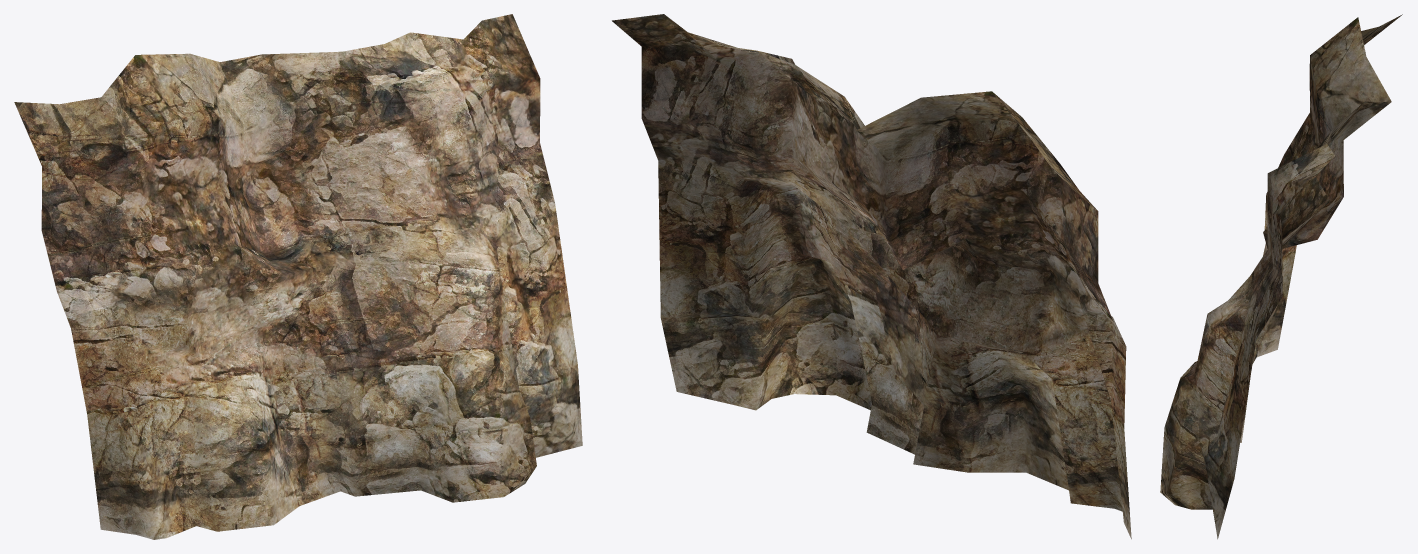
Rendered from ex_DungeonSet_Cliff_01B.fbx.
3 views of the same model, side by side, from view 1: azimuth 30°, elevation 25°; view 2: azimuth 150°, elevation 25°; view 3: azimuth 270°, elevation 25° (orthographic). The views are drawn at different scales.
Visible parts, largest first — view 1: ex_DungeonSet_Cliff_01B; view 2: ex_DungeonSet_Cliff_01B; view 3: ex_DungeonSet_Cliff_01B.
Boxes of the visible parts, bbox=[...] form: ex_DungeonSet_Cliff_01B: bbox=[14, 14, 582, 539]; ex_DungeonSet_Cliff_01B: bbox=[612, 14, 1131, 539]; ex_DungeonSet_Cliff_01B: bbox=[1160, 14, 1402, 539].
Bounding box in the file's own units: 732 × 632 × 379.
